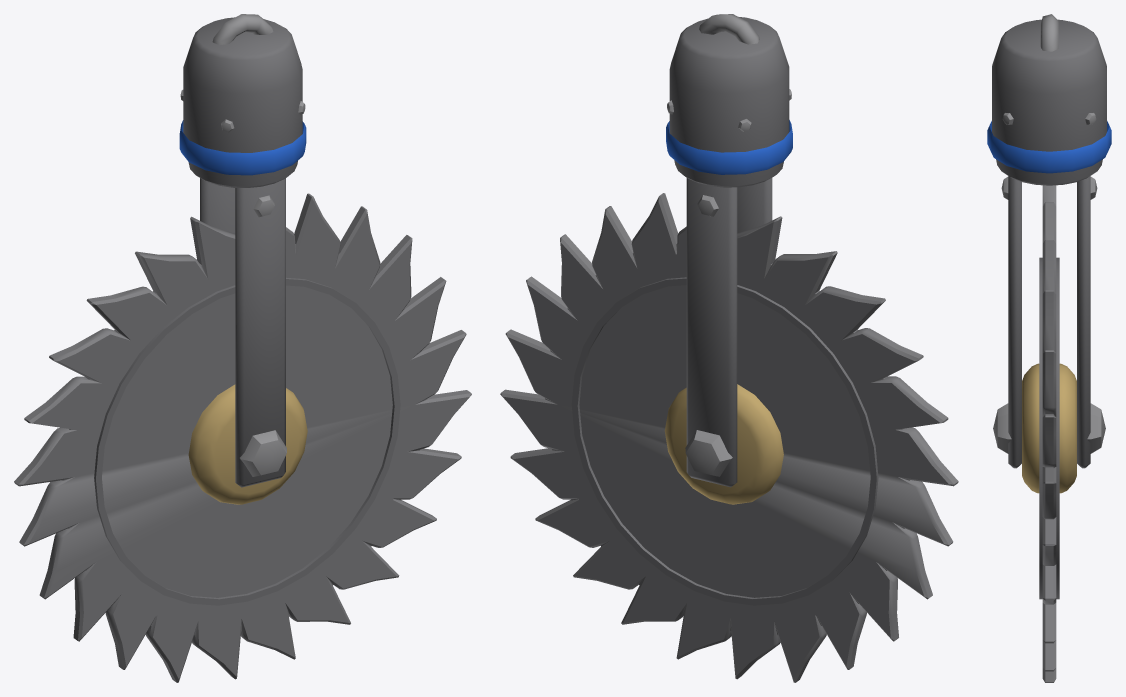
The model's file is Kit_Saw_Disc.glb.
The picture shows the model from 3 angles, left to right: view 1: azimuth 30°, elevation 25°; view 2: azimuth 150°, elevation 25°; view 3: azimuth 270°, elevation 25°; orthographic projection. The views are drawn at different scales.
Visible parts, largest first — view 1: Kit_Saw_Disc; view 2: Kit_Saw_Disc; view 3: Kit_Saw_Disc.
Part boxes in pixels (x1,y1,x2,y2): Kit_Saw_Disc: [14, 14, 471, 682]; Kit_Saw_Disc: [500, 14, 958, 682]; Kit_Saw_Disc: [987, 14, 1111, 682].
Size of the model in its own units: 0.2975 by 0.4141 by 0.0728.
